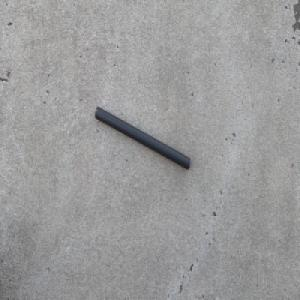LuggagePart: (94, 105, 191, 171)
